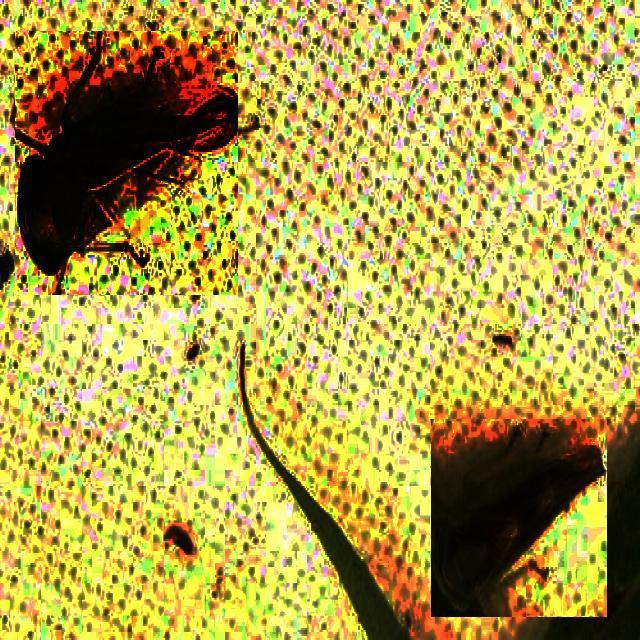green-leafhopper: (15, 31, 238, 295), (431, 419, 607, 617)
